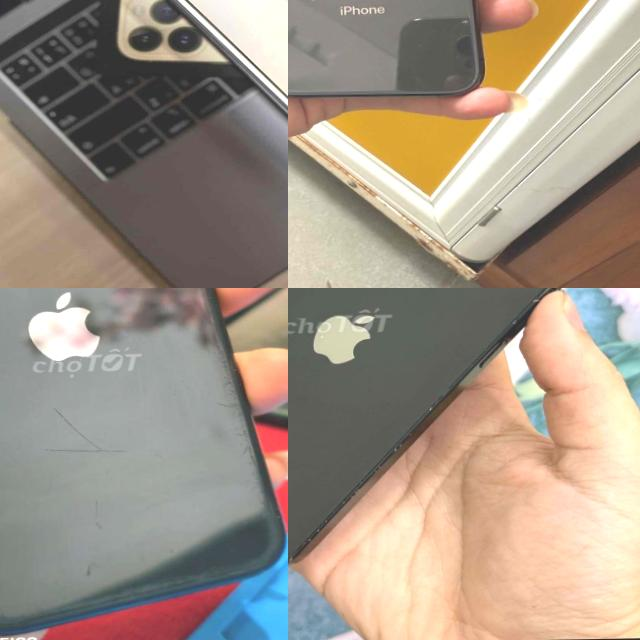gen_11: (0, 288, 288, 638)
gen_12_13: (111, 0, 288, 149)
gen_14: (288, 288, 627, 586)
gen_x_xs: (288, 0, 483, 99)
scratch: (200, 313, 283, 502), (21, 389, 136, 479), (60, 498, 144, 600), (446, 14, 482, 34)
